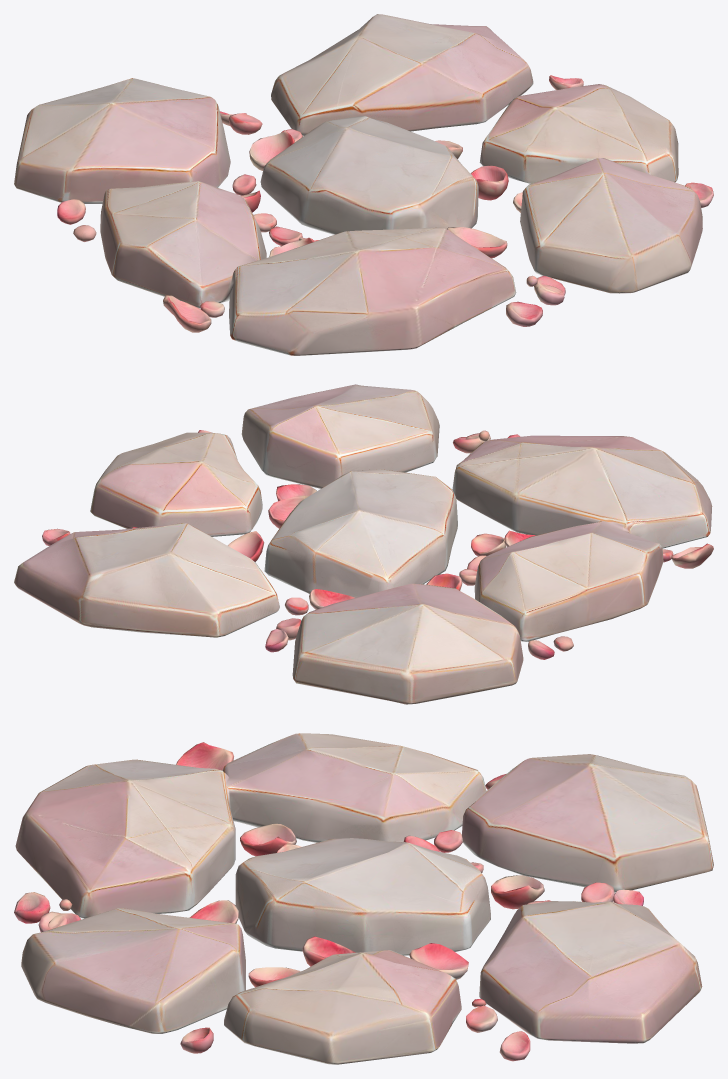
Rendered from path-stone-compressed.glb.
3 renders of one model, top to bottom at view 1: azimuth 30°, elevation 25°; view 2: azimuth 150°, elevation 25°; view 3: azimuth 270°, elevation 25°, orthographic. The views are drawn at different scales.
Parts seen in each view (by area): view 1: Mesh_0; view 2: Mesh_0; view 3: Mesh_0.
Boxes of the visible parts, x1,y1,x2,y2 form: Mesh_0: [14, 14, 713, 355]; Mesh_0: [14, 384, 713, 704]; Mesh_0: [14, 733, 713, 1064].
Bounding box in the file's own units: 0.1568 × 0.02 × 0.1548.
1 material, 1 textured.
